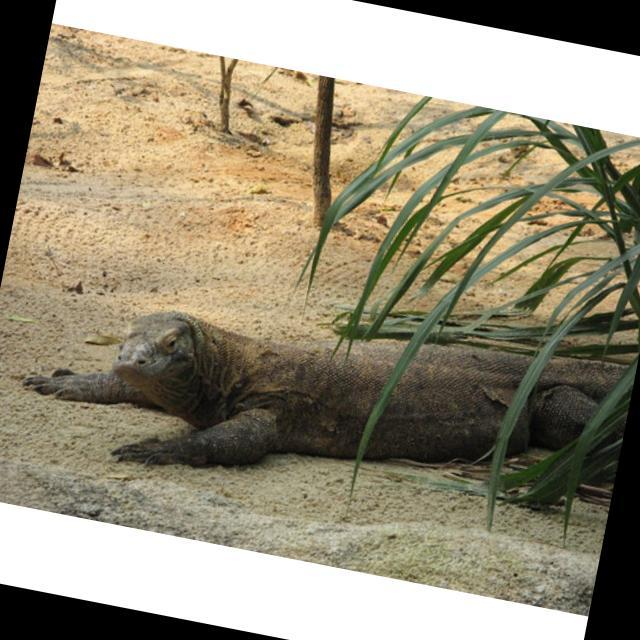KomodoDragon: (9, 245, 636, 558)
